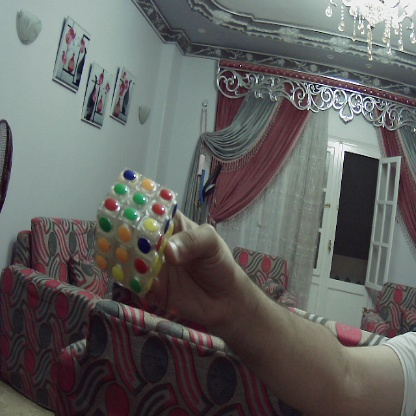Rubix Cube: (92, 166, 179, 296)
